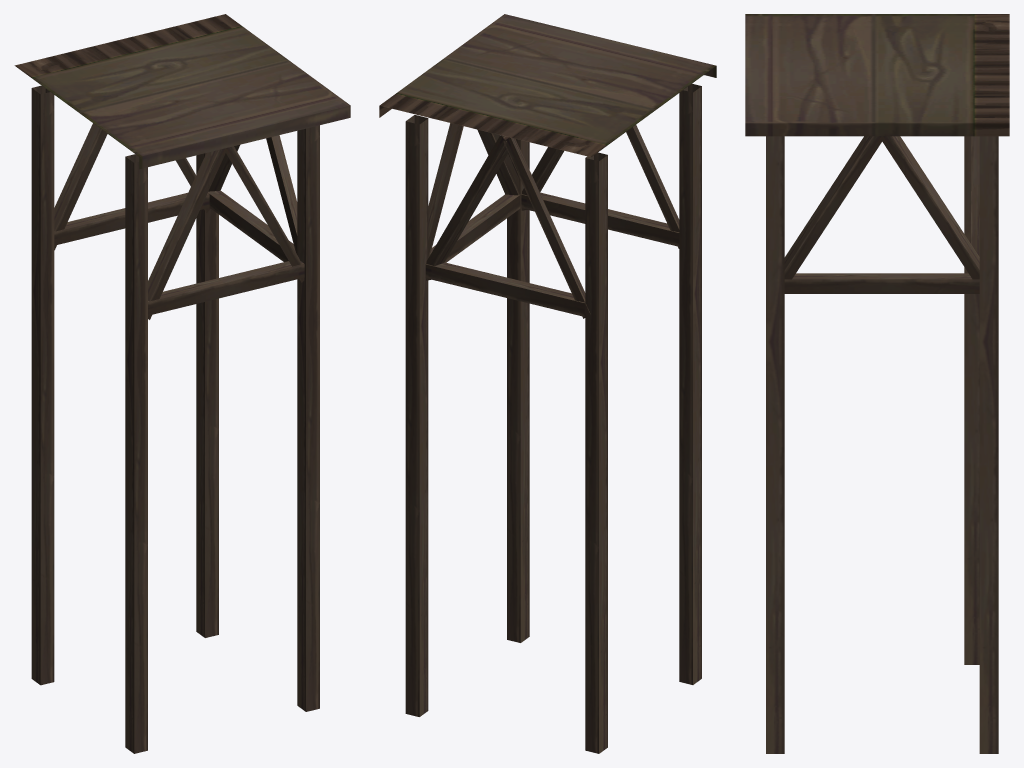
The model's file is WuJian09.FBX.
3 views of the same model, side by side, from view 1: azimuth 30°, elevation 25°; view 2: azimuth 150°, elevation 25°; view 3: azimuth 270°, elevation 25° (orthographic). The views are drawn at different scales.
Parts seen in each view (by area): view 1: WuJian09; view 2: WuJian09; view 3: WuJian09.
Part boxes in pixels (box(x1,y1,x2,y2)): WuJian09: box(14, 14, 350, 753); WuJian09: box(379, 14, 716, 753); WuJian09: box(745, 14, 1009, 753).
Size of the model in its own units: 188 by 516 by 193.
